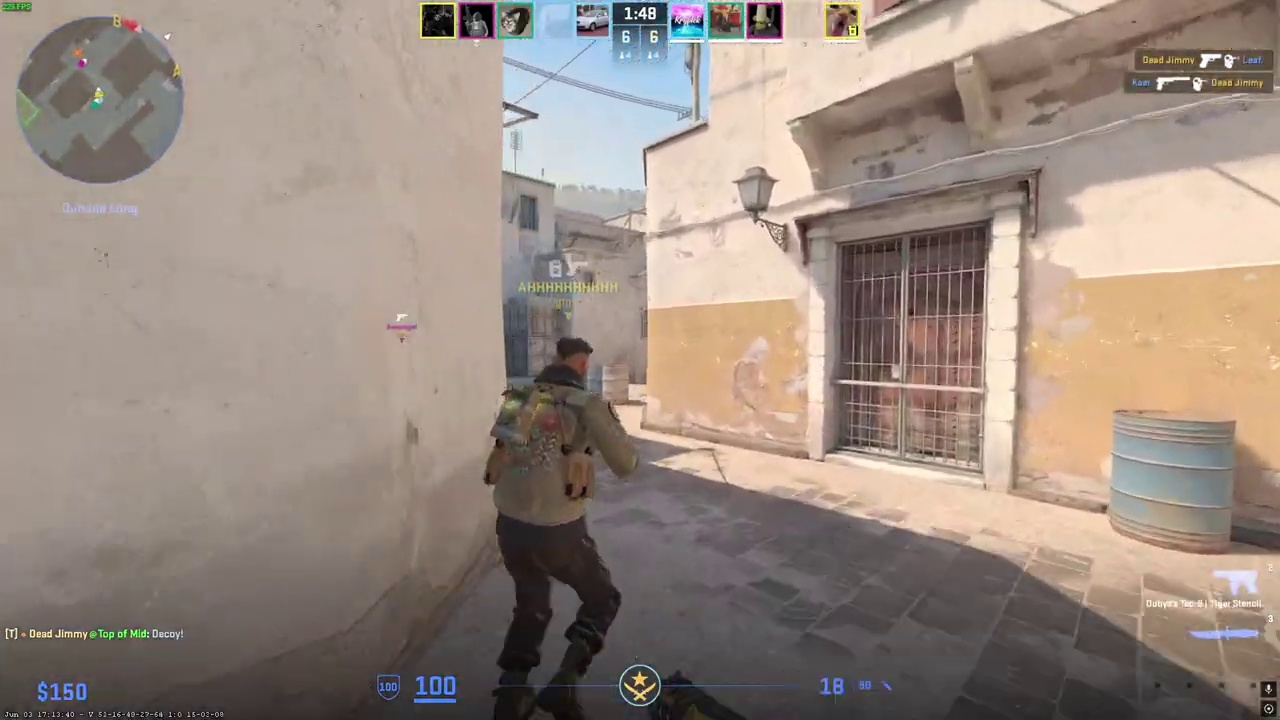Terrorist: (482, 337, 636, 720)
